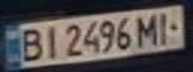2: (60, 20, 84, 57)
4: (81, 18, 103, 55)
6: (115, 15, 139, 52)
9: (97, 17, 118, 53)
B: (15, 26, 45, 63)
I: (151, 8, 184, 45), (36, 22, 63, 61)
M: (133, 11, 163, 47)
